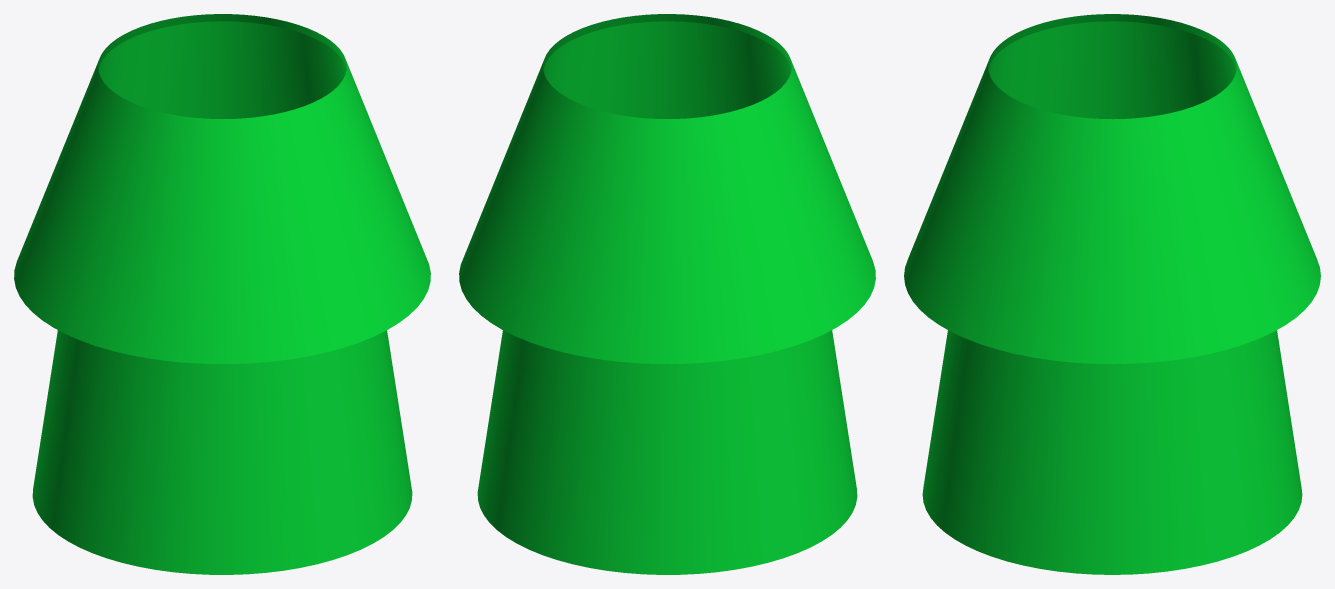
The model's file is Beam.gltf.
3 views of the same model, side by side, from view 1: azimuth 30°, elevation 25°; view 2: azimuth 150°, elevation 25°; view 3: azimuth 270°, elevation 25° (orthographic).
Parts seen in each view (by area): view 1: Cylinder.005; view 2: Cylinder.005; view 3: Cylinder.005.
Part boxes in pixels (x1,y1,x2,y2): Cylinder.005: [14, 14, 430, 574]; Cylinder.005: [459, 14, 875, 574]; Cylinder.005: [904, 14, 1320, 574].
Bounding box in the file's own units: 11.73 × 13.29 × 11.73.
1 material, 1 textured.
